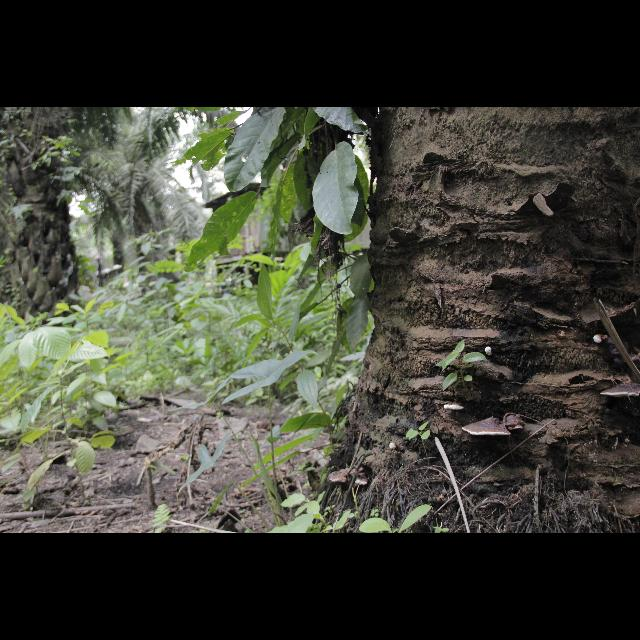ganoderma: (604, 336, 640, 369), (464, 419, 513, 438), (601, 383, 640, 399), (505, 415, 527, 431), (330, 470, 353, 485), (357, 473, 370, 487), (445, 404, 465, 412)
primordium: (594, 336, 603, 345), (391, 443, 399, 452), (486, 348, 494, 357)
